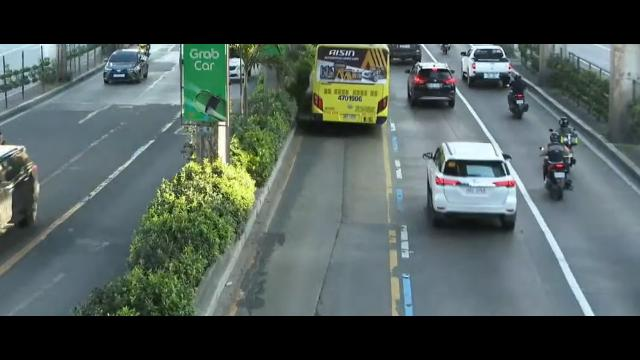bus: (301, 44, 390, 129)
car: (423, 142, 515, 221), (406, 60, 455, 108), (104, 49, 149, 85)
motorcycle: (538, 133, 570, 201), (551, 116, 579, 161), (507, 73, 530, 121)
pickup-truck: (463, 44, 517, 87)
